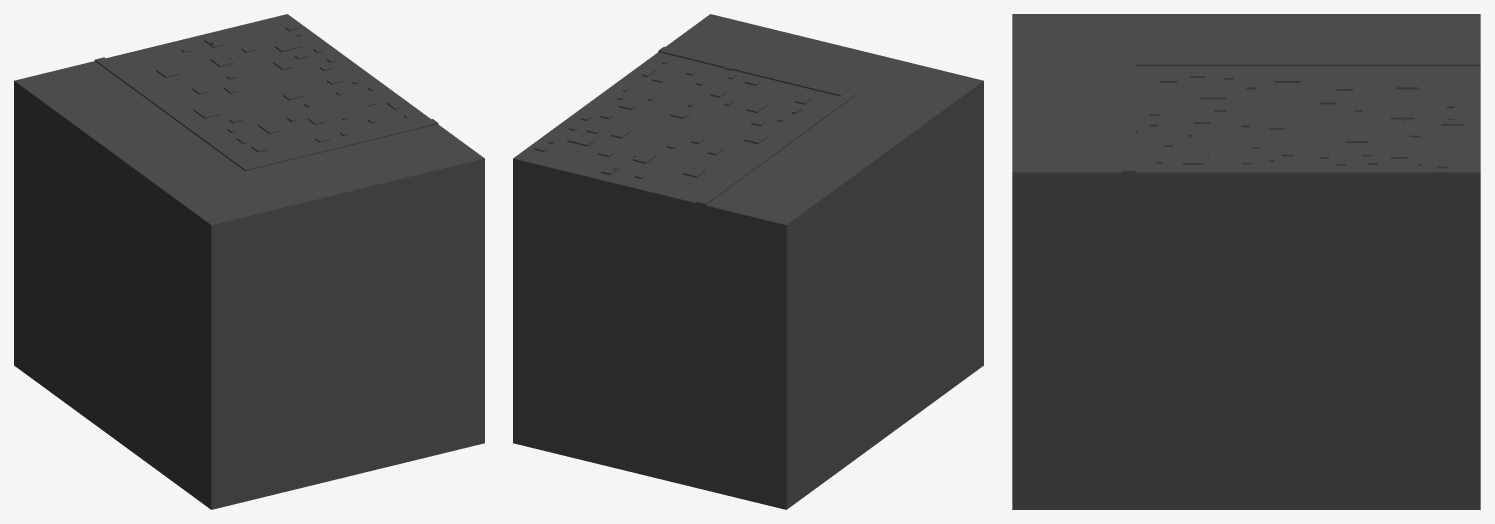
The model's file is Roads-2.obj.
3 views of the same model, side by side, from view 1: azimuth 30°, elevation 25°; view 2: azimuth 150°, elevation 25°; view 3: azimuth 270°, elevation 25° (orthographic). The views are drawn at different scales.
Size of the model in its own units: 20 by 20 by 25.
